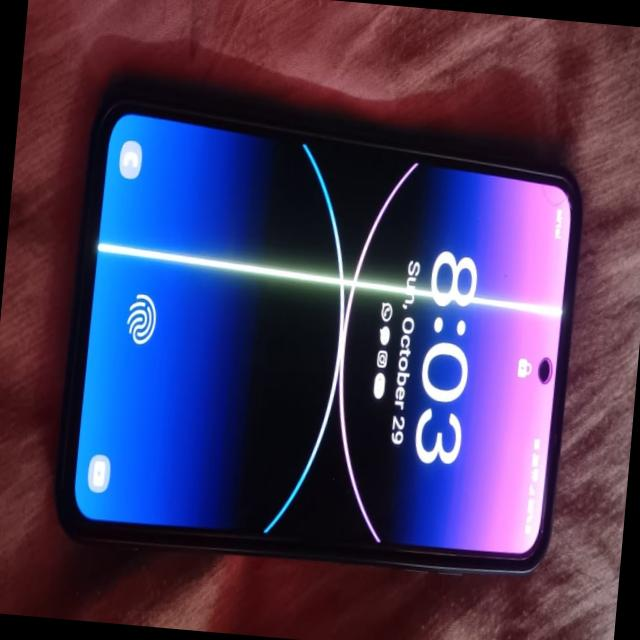mobile_phone: (45, 51, 614, 614)
